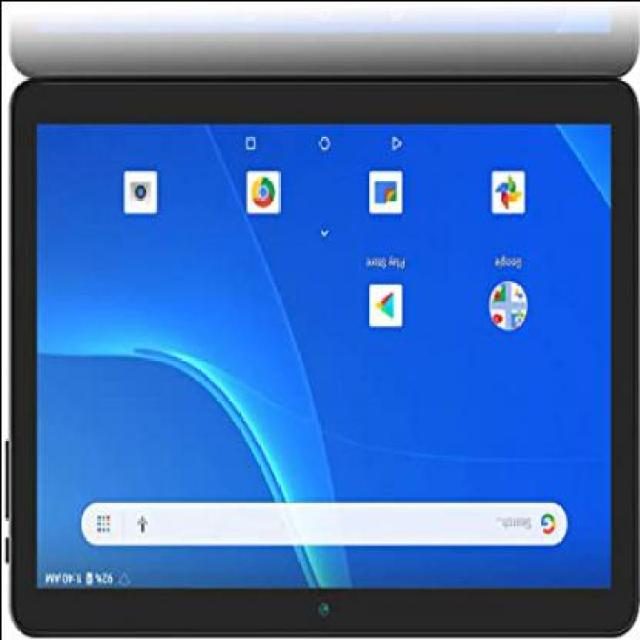tablet: (11, 51, 640, 640)
